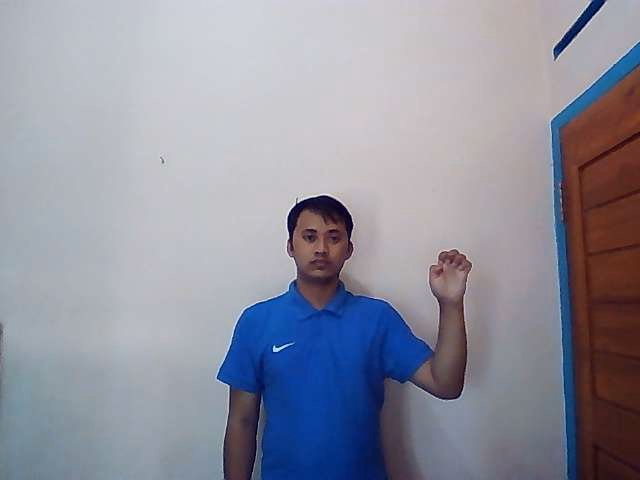E: (427, 249, 474, 305)
